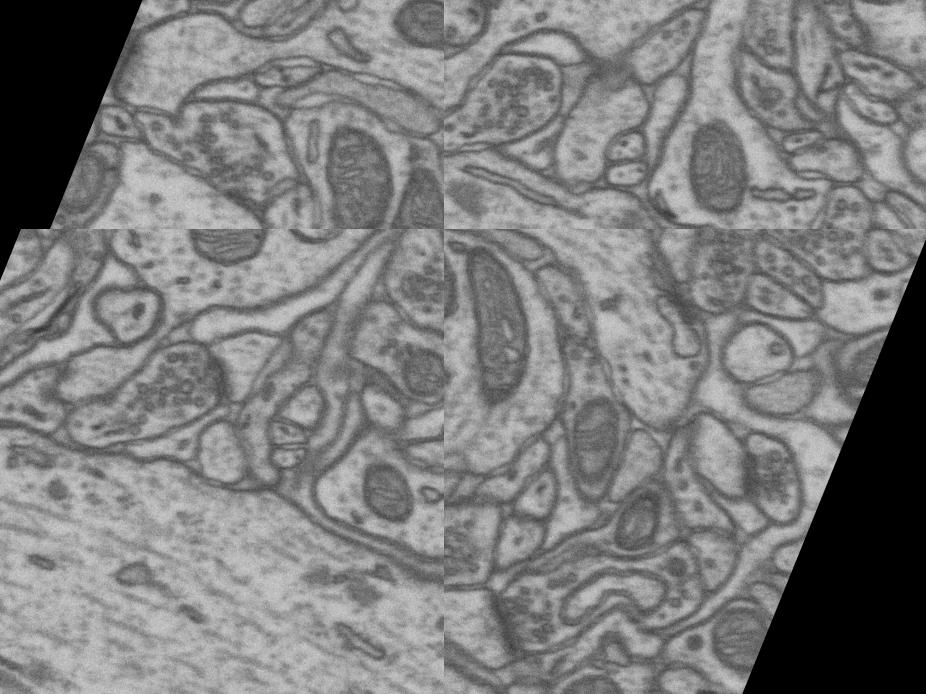mitochondria: (444, 240, 568, 423), (292, 114, 416, 229), (655, 121, 780, 229), (335, 448, 444, 553), (547, 390, 640, 502), (690, 591, 775, 684), (164, 229, 289, 292), (336, 160, 444, 229), (724, 49, 802, 136), (819, 309, 891, 403), (379, 322, 444, 417), (602, 482, 673, 562), (54, 147, 116, 228), (444, 229, 482, 349), (539, 651, 641, 694), (380, 0, 444, 66)
